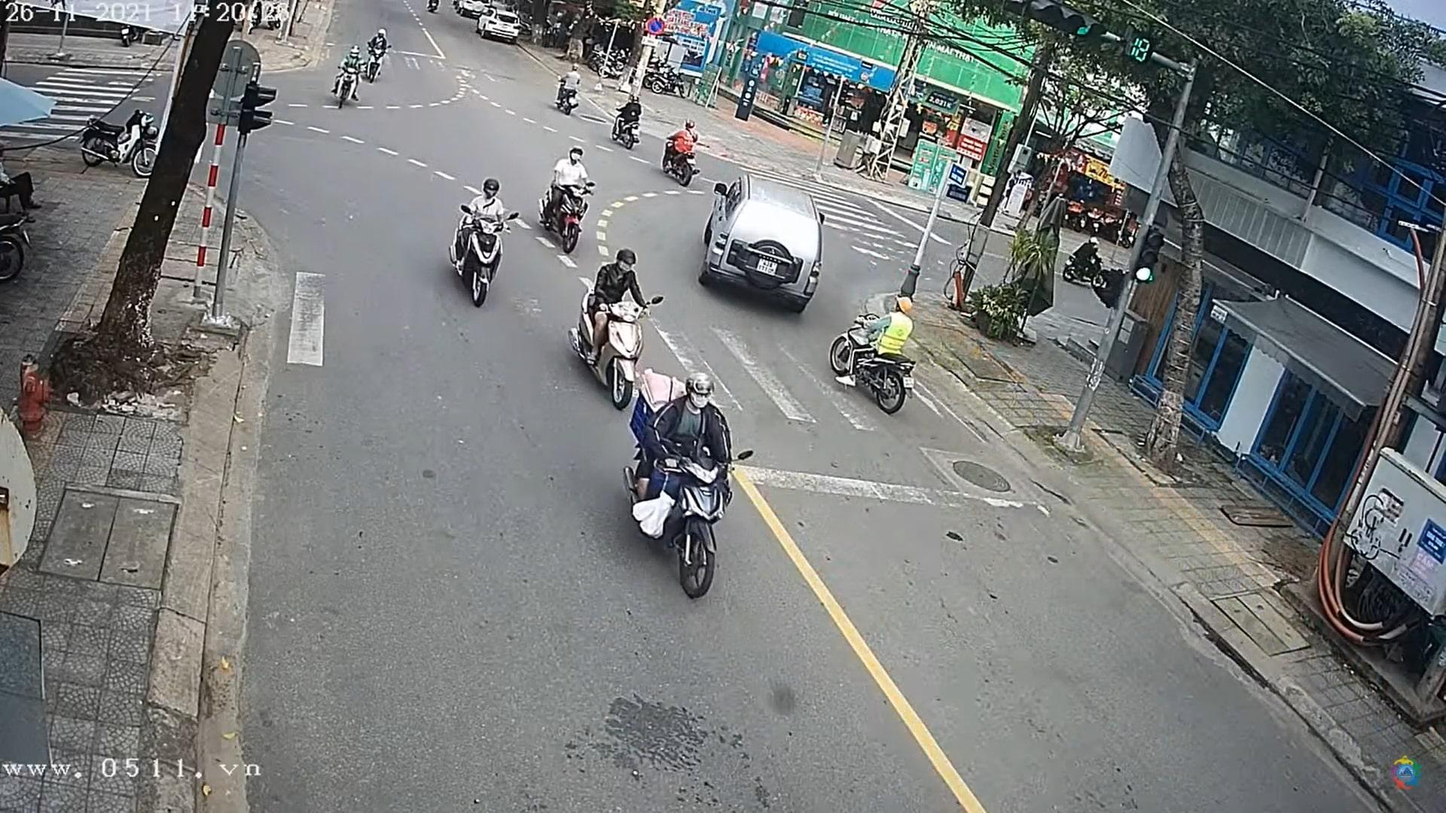motorbike: (620, 420, 757, 603), (567, 277, 645, 410), (450, 208, 514, 311), (539, 172, 596, 256), (334, 55, 359, 110)
